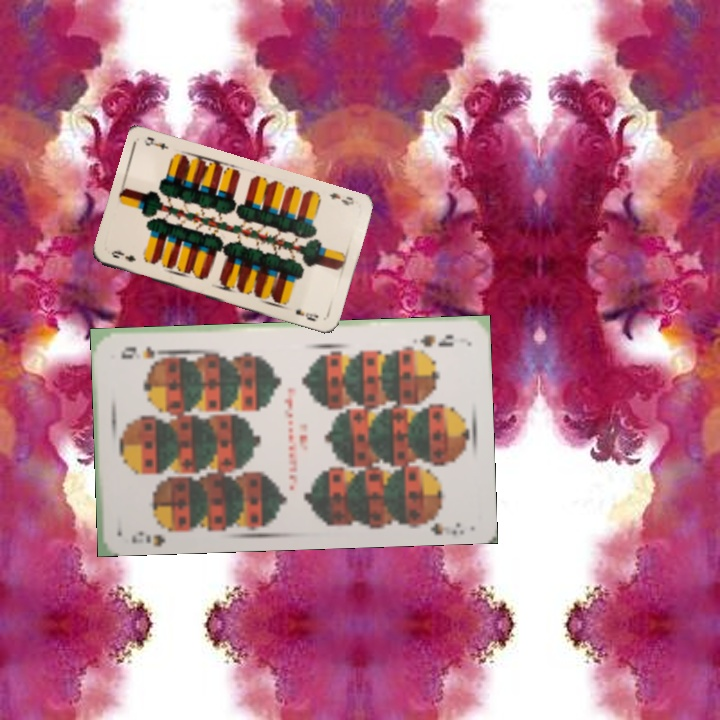E9: (325, 189, 357, 208), (107, 246, 138, 265)
S9: (128, 519, 181, 546), (415, 330, 457, 350)
